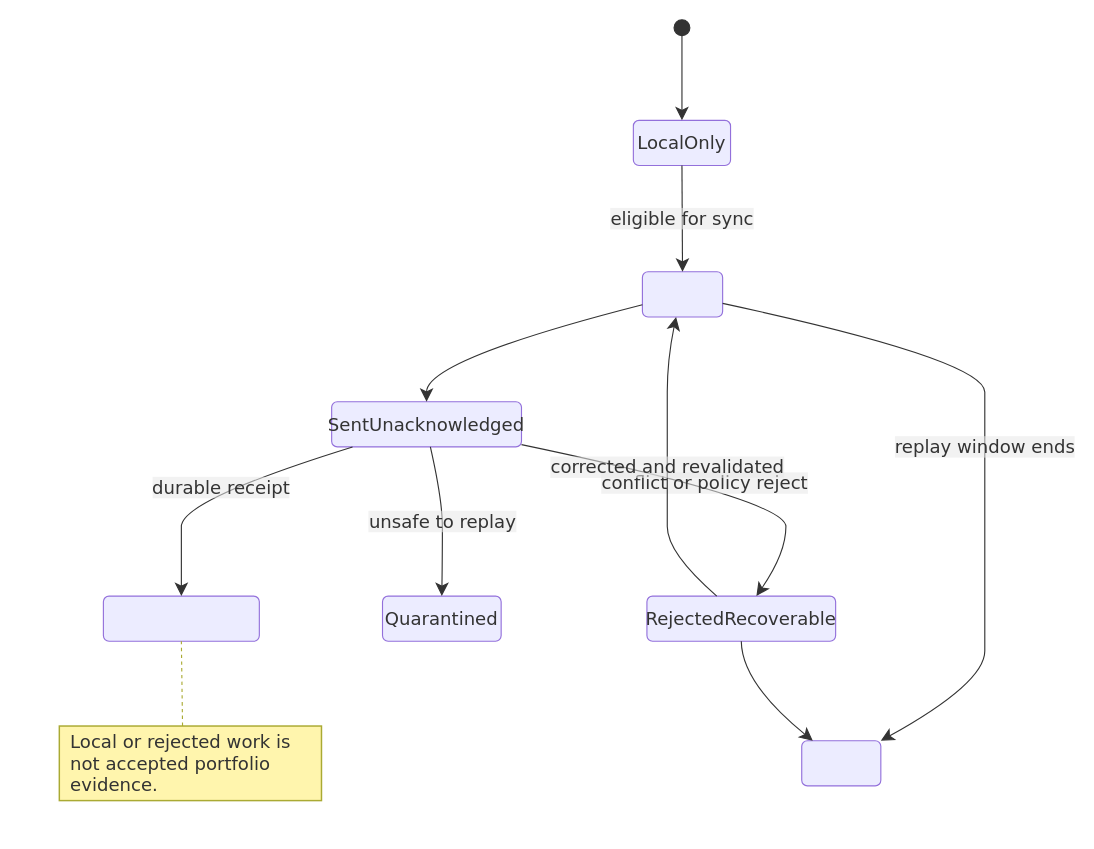
This 1094x849 diagram has some shape labels left out. The centre of each missing label's shape, as x and y in pixels:
"AcceptedDurable" goes at (x=180, y=618).
"Expired" goes at (x=841, y=763).
"Queued" goes at (x=682, y=294).
